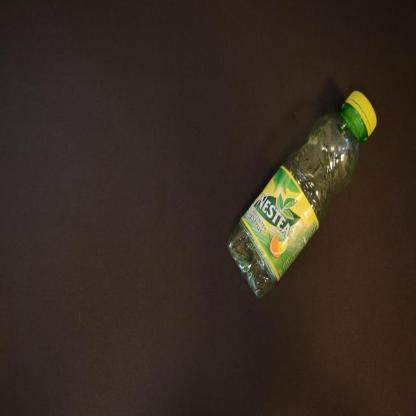Plastic Bottle: (230, 90, 378, 298)
